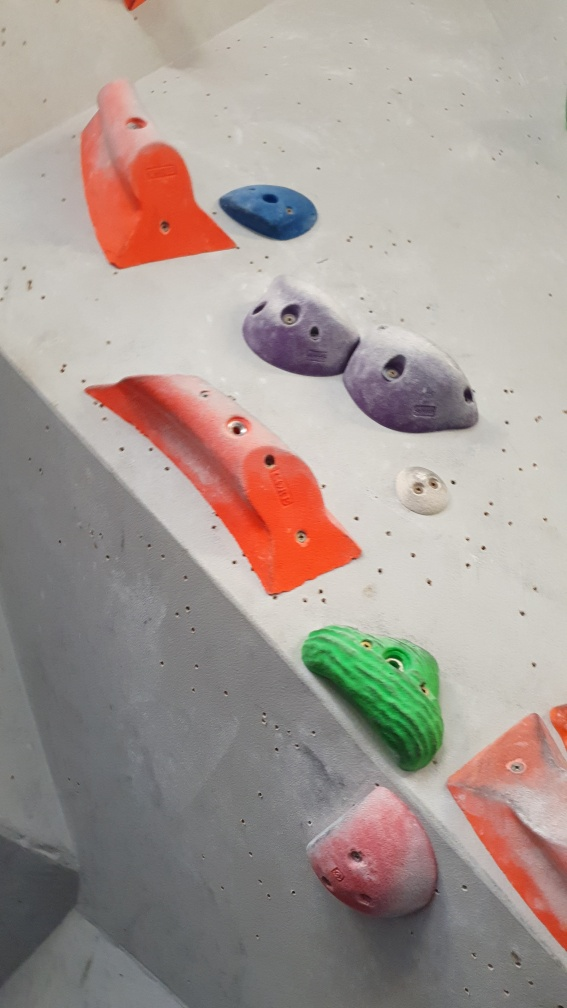Crimp: (219, 185, 323, 243)
Jug: (304, 619, 443, 774), (340, 320, 483, 438), (240, 275, 365, 381)
Pinch: (83, 369, 363, 605), (441, 707, 567, 965), (76, 76, 237, 272)
